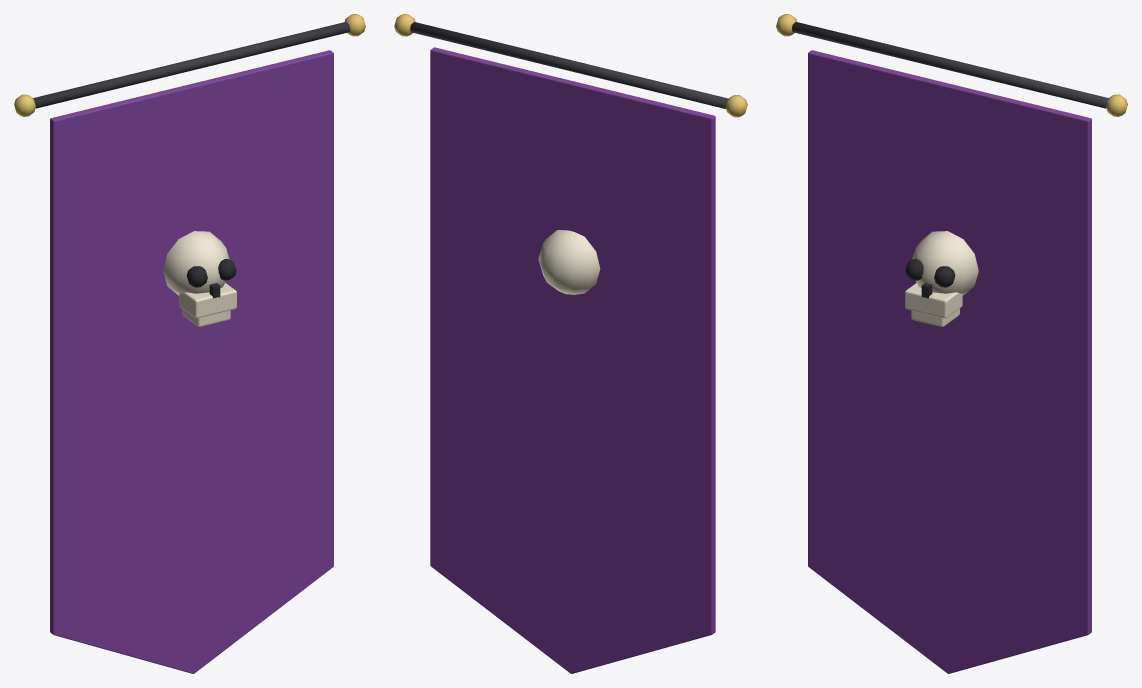
The model's file is banner_bone_banner.glb.
3 renders of one model, left to right at view 1: azimuth 30°, elevation 25°; view 2: azimuth 150°, elevation 25°; view 3: azimuth 330°, elevation 25°, orthographic.
Parts seen in each view (by area): view 1: GD_banner_bone_banner__m3, GD_banner_bone_banner__m4, GD_banner_bone_banner__m0, GD_banner_bone_banner__m5, GD_banner_bone_banner__m1; view 2: GD_banner_bone_banner__m3, GD_banner_bone_banner__m0, GD_banner_bone_banner__m4, GD_banner_bone_banner__m1; view 3: GD_banner_bone_banner__m3, GD_banner_bone_banner__m4, GD_banner_bone_banner__m0, GD_banner_bone_banner__m5, GD_banner_bone_banner__m1.
Boxes of the visible parts, x1,y1,x2,y2 form: GD_banner_bone_banner__m3: (50, 50, 333, 673); GD_banner_bone_banner__m4: (163, 231, 236, 326); GD_banner_bone_banner__m0: (33, 22, 349, 108); GD_banner_bone_banner__m5: (186, 259, 236, 298); GD_banner_bone_banner__m1: (14, 14, 365, 116); GD_banner_bone_banner__m3: (430, 47, 715, 673); GD_banner_bone_banner__m0: (410, 22, 728, 108); GD_banner_bone_banner__m4: (538, 230, 600, 294); GD_banner_bone_banner__m1: (394, 14, 747, 117); GD_banner_bone_banner__m3: (808, 50, 1091, 673); GD_banner_bone_banner__m4: (905, 231, 978, 326); GD_banner_bone_banner__m0: (792, 22, 1108, 108); GD_banner_bone_banner__m5: (905, 259, 955, 298); GD_banner_bone_banner__m1: (776, 14, 1127, 116).
Bounding box in the file's own units: 0.996 × 1.68 × 0.2112.
